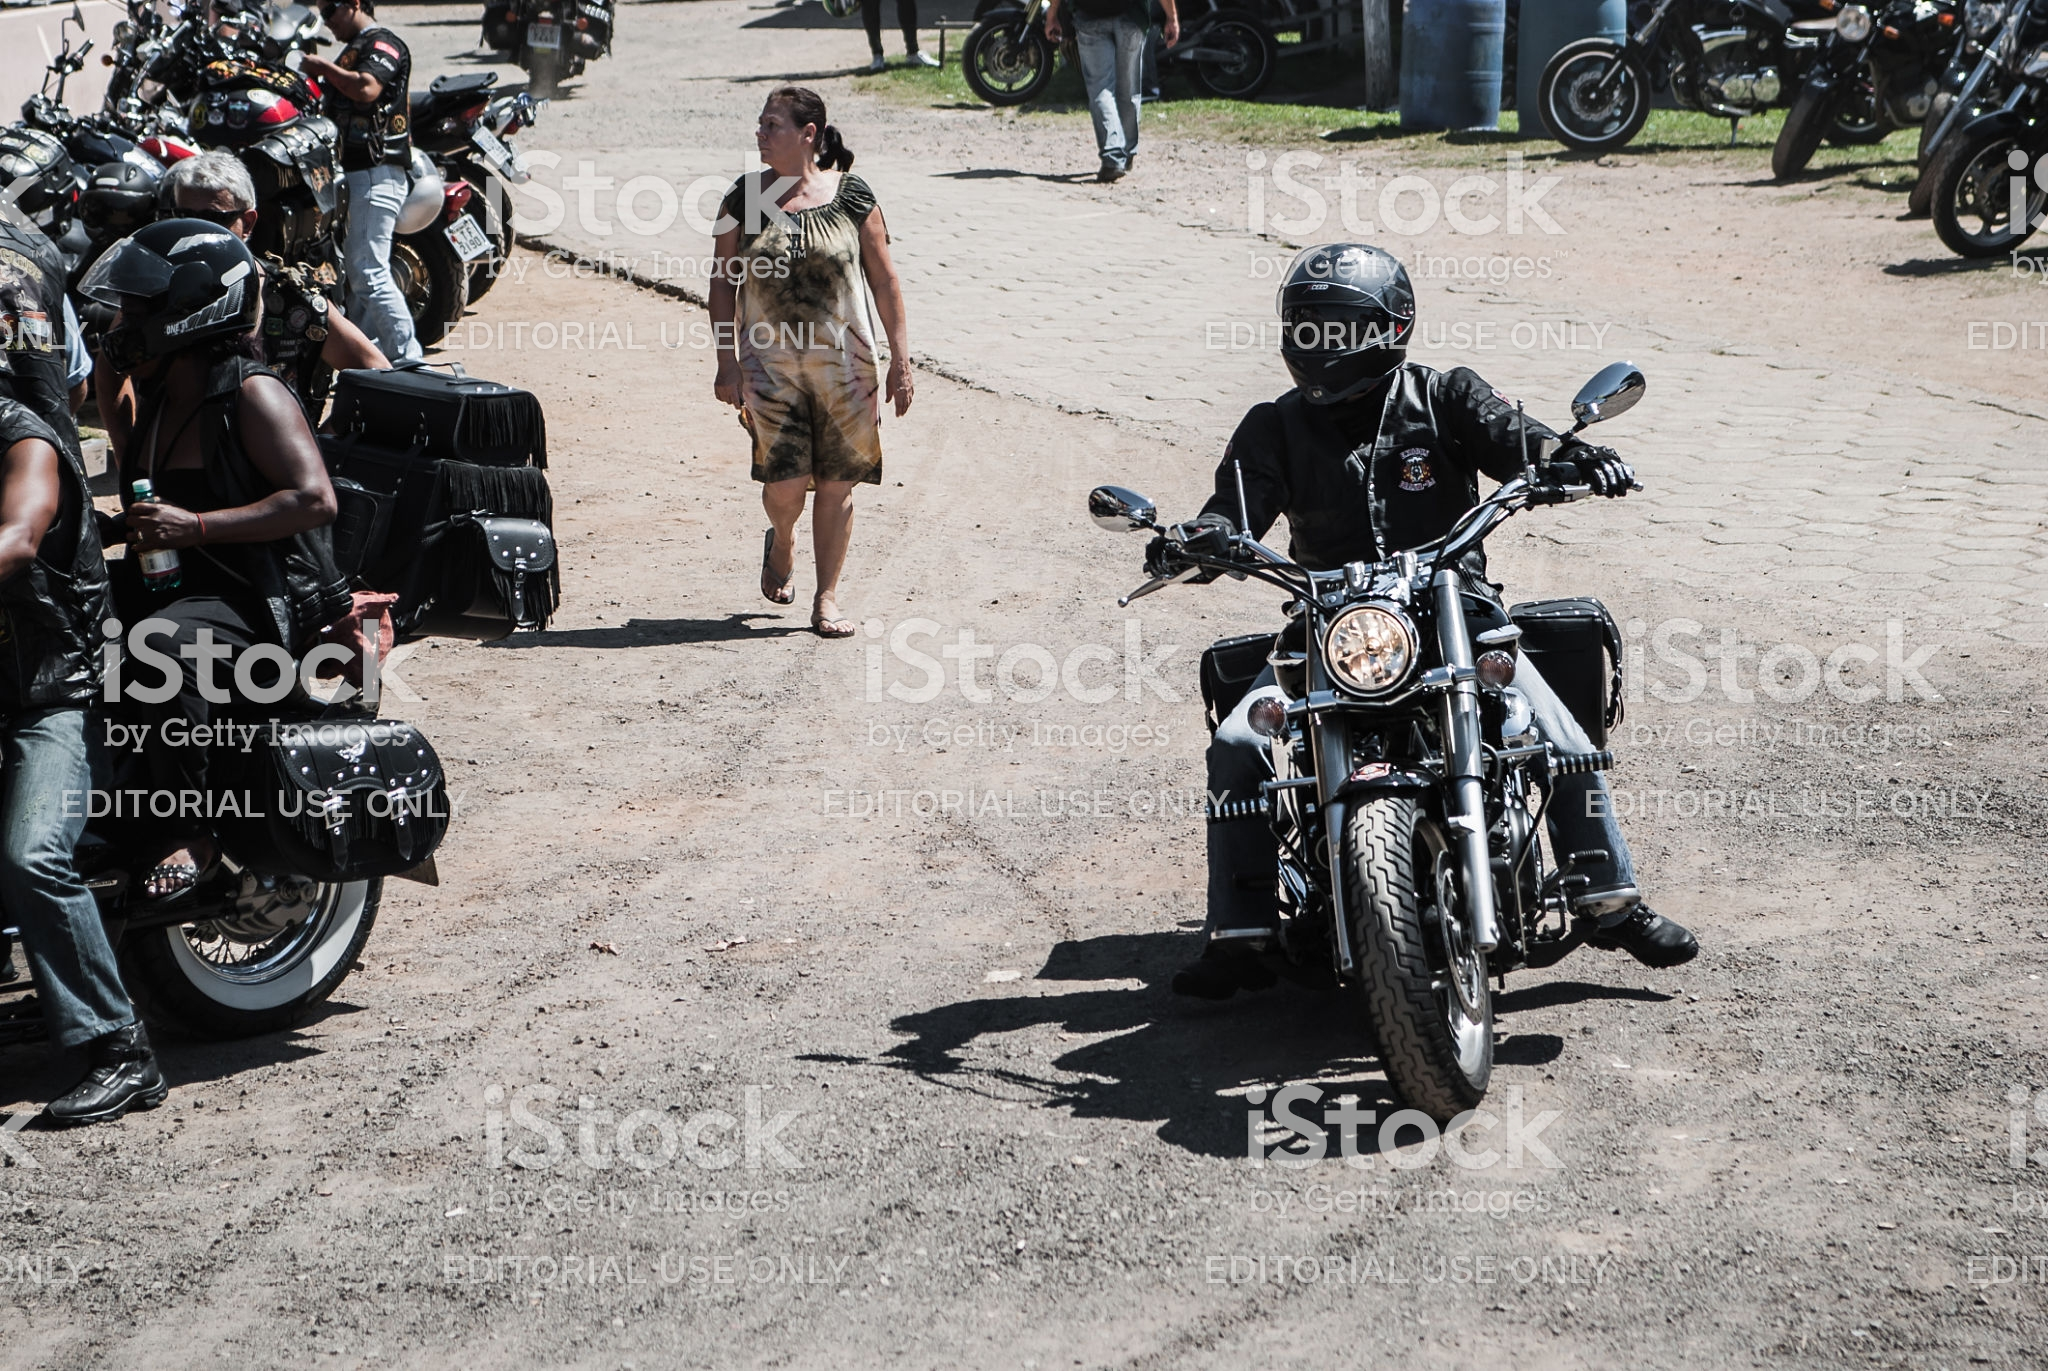helmet: (67, 220, 288, 367), (1269, 252, 1416, 399)
